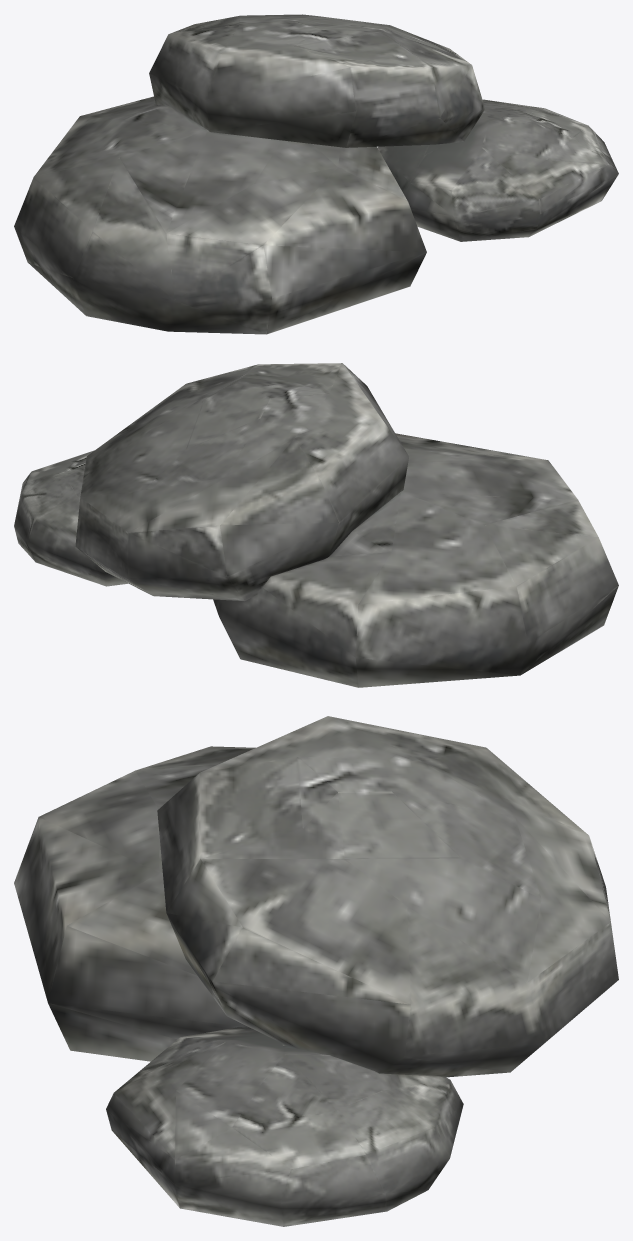
Rendered from prop_rock_small.glb.
3 views of the same model, one above another, from view 1: azimuth 30°, elevation 25°; view 2: azimuth 150°, elevation 25°; view 3: azimuth 270°, elevation 25° (orthographic). The views are drawn at different scales.
Size of the model in its own units: 0.7 by 0.2298 by 0.466.
Materials: 1 (1 with a texture image).
